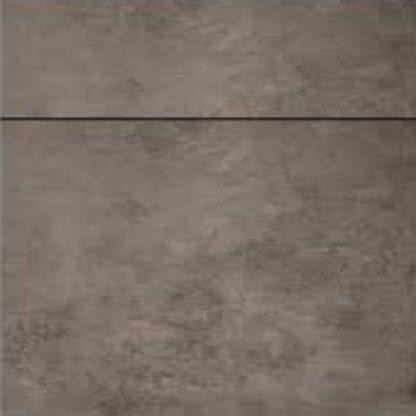Metamorphic_Marble: (2, 1, 416, 414)
